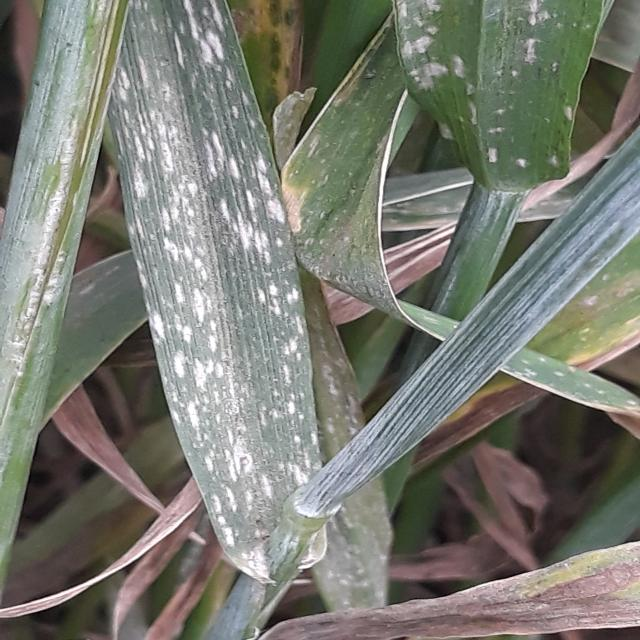powder_mildew: (2, 0, 323, 640), (322, 0, 636, 474), (324, 547, 634, 640)
